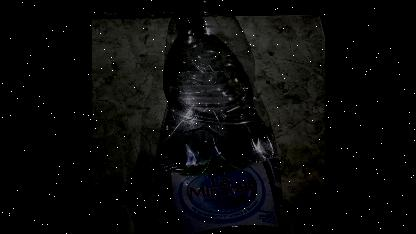Plastic Bottle: (153, 0, 286, 234)
